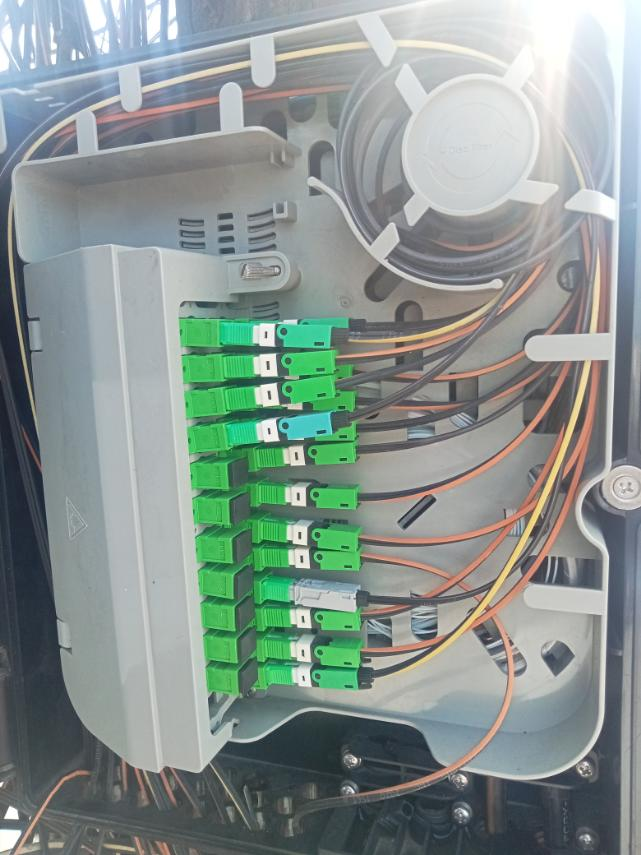occupied: (225, 403, 366, 449), (223, 369, 355, 411), (217, 323, 365, 356), (265, 575, 381, 613), (223, 349, 351, 380), (257, 355, 366, 391), (260, 520, 375, 554), (250, 316, 379, 345), (266, 637, 374, 669), (257, 387, 373, 416), (268, 665, 382, 694), (259, 438, 365, 469), (259, 481, 372, 510), (264, 605, 369, 633), (263, 544, 370, 571), (260, 418, 369, 443)
vacant: (229, 491, 251, 528), (241, 656, 259, 699), (236, 595, 257, 631), (239, 625, 258, 664), (235, 562, 254, 600), (229, 456, 249, 489), (234, 528, 252, 563)
